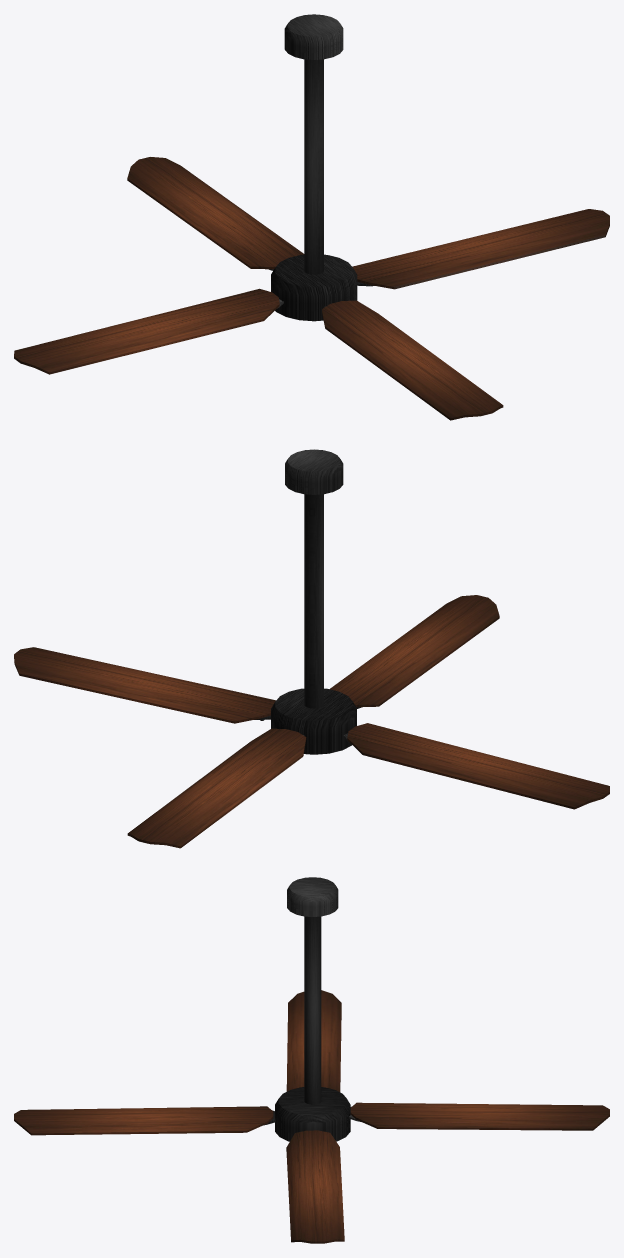
File: ceiling_fan.glb
The picture shows the model from 3 angles, top to bottom: view 1: azimuth 30°, elevation 25°; view 2: azimuth 150°, elevation 25°; view 3: azimuth 270°, elevation 25°; orthographic projection. The views are drawn at different scales.
Parts seen in each view (by area): view 1: Motor001; view 2: Motor001; view 3: Motor001.
Boxes of the visible parts, x1=… form: Motor001: x1=14, y1=14, x2=609, y2=420; Motor001: x1=14, y1=449, x2=609, y2=848; Motor001: x1=14, y1=877, x2=609, y2=1243.
Bounding box in the file's own units: 3.62 × 1.67 × 3.62.
1 material, 1 textured.
